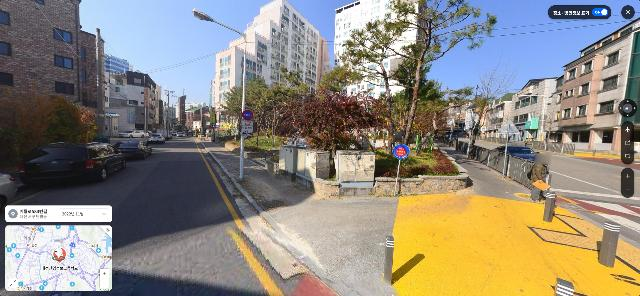other: (339, 0, 499, 152), (339, 0, 427, 146), (0, 91, 103, 171), (220, 65, 312, 149), (278, 88, 382, 154), (464, 51, 515, 160)
